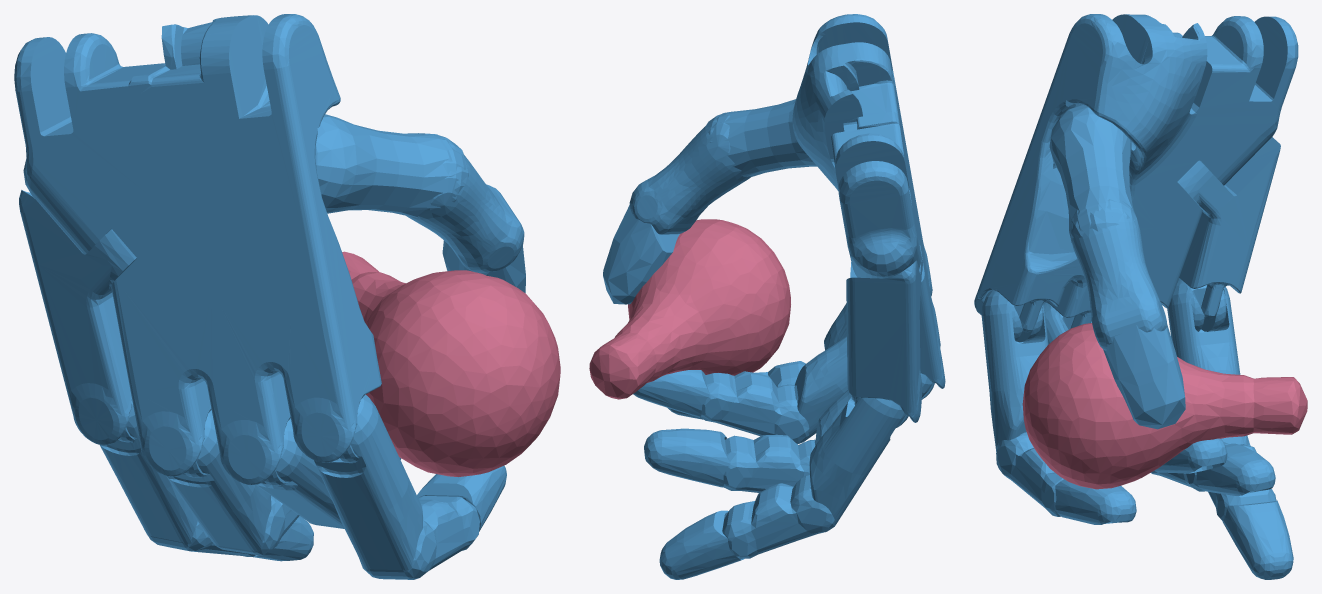
3 views of the same model, side by side, from view 1: azimuth 30°, elevation 25°; view 2: azimuth 150°, elevation 25°; view 3: azimuth 270°, elevation 25° (orthographic). The views are drawn at different scales.
Parts seen in each view (by area): view 1: 0; view 2: 0; view 3: 0.
Part boxes in pixels (x1,y1,x2,y2): 0: [14, 14, 560, 579]; 0: [589, 14, 945, 579]; 0: [974, 14, 1307, 579].
Bounding box in the file's own units: 0.128 × 0.1792 × 0.1048.
